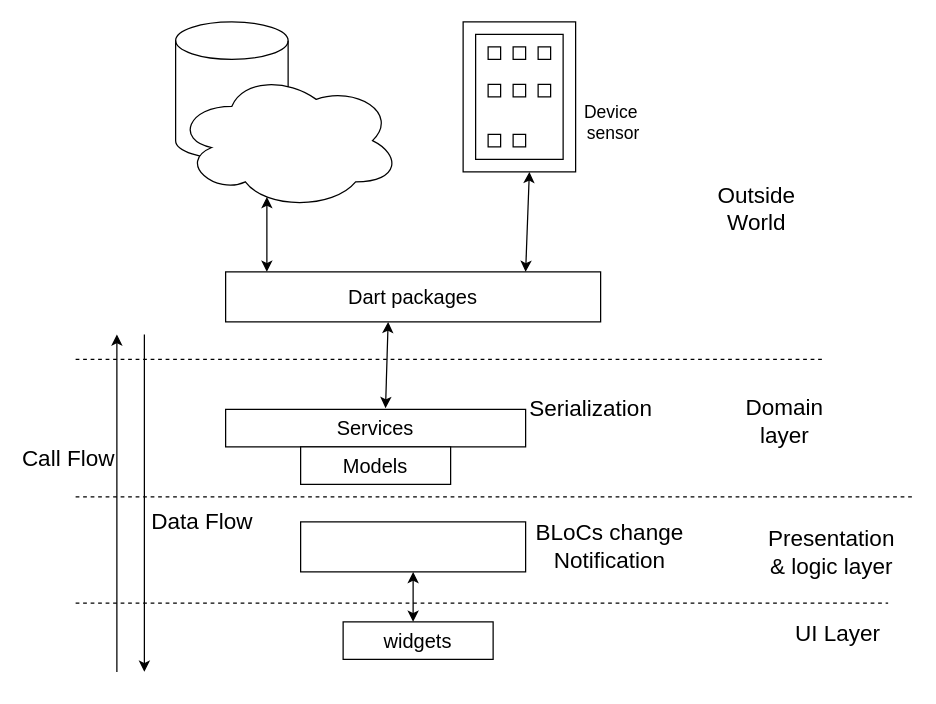
This 936x704 diagram has some shape labels left out. The shapes that lost their labels are listed below. From the top down, each one's box as (x1, y1, x2, y2) in pixels, then its label:
(174, 71, 401, 209): Remote Database web servers
(299, 521, 526, 572): View Models
